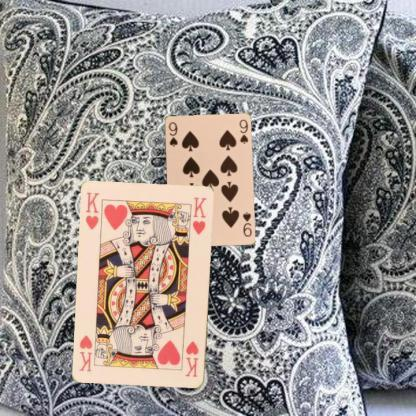9s: (239, 209, 254, 238), (166, 120, 178, 148)
Kh: (83, 190, 101, 231), (183, 338, 200, 378)
